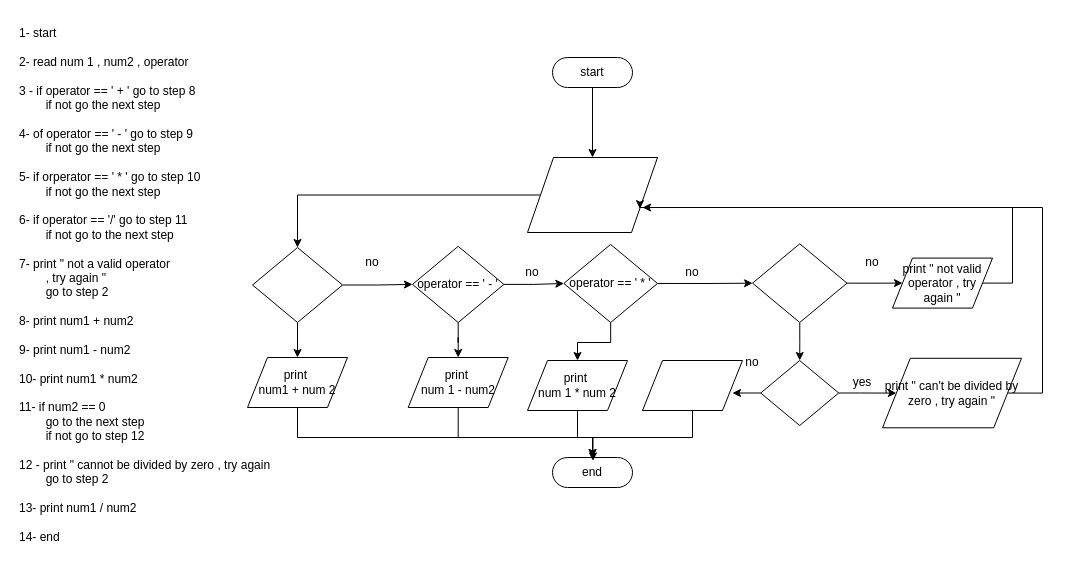
This 1068x584 diagram has some shape labels left out. Each missing label, with the centre of its shape:
num 2 == 0: (799,393)
operator == ' +': (297,284)
operator == ' / ': (799,282)
print num 1 / num 2: (692,385)
read num 1 num2 operator: (592,194)
